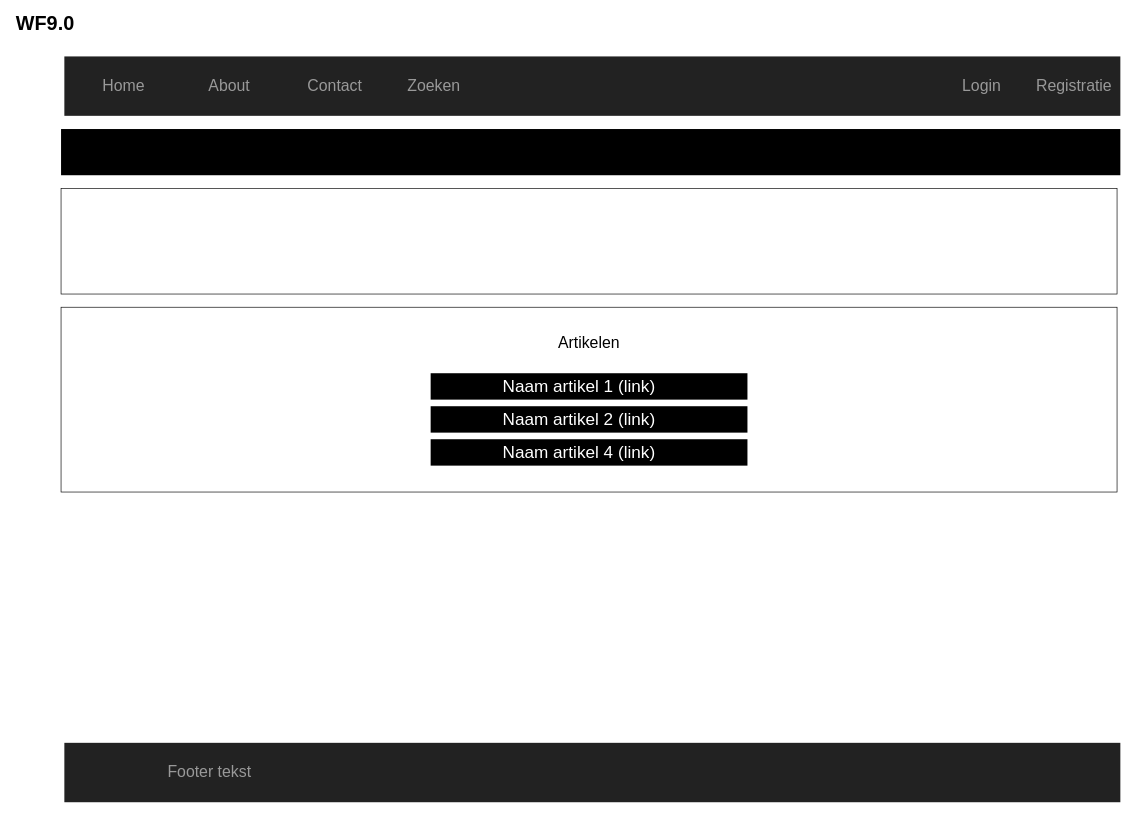
This 1131x813 diagram has some shape labels left out. Here are the shapes that lost their labels. From the top down, the centre of each, then its label:
point 590,152: Paginatitel auteurnaam
point 588,241: Beschrijving auteur
